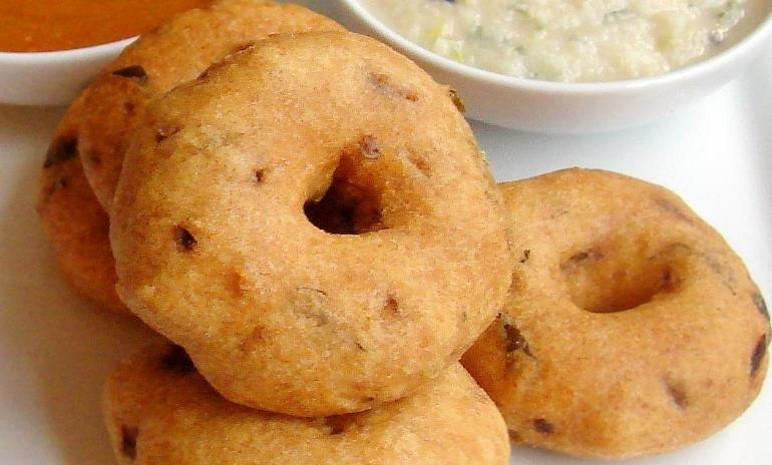mvada: (115, 62, 469, 363)
